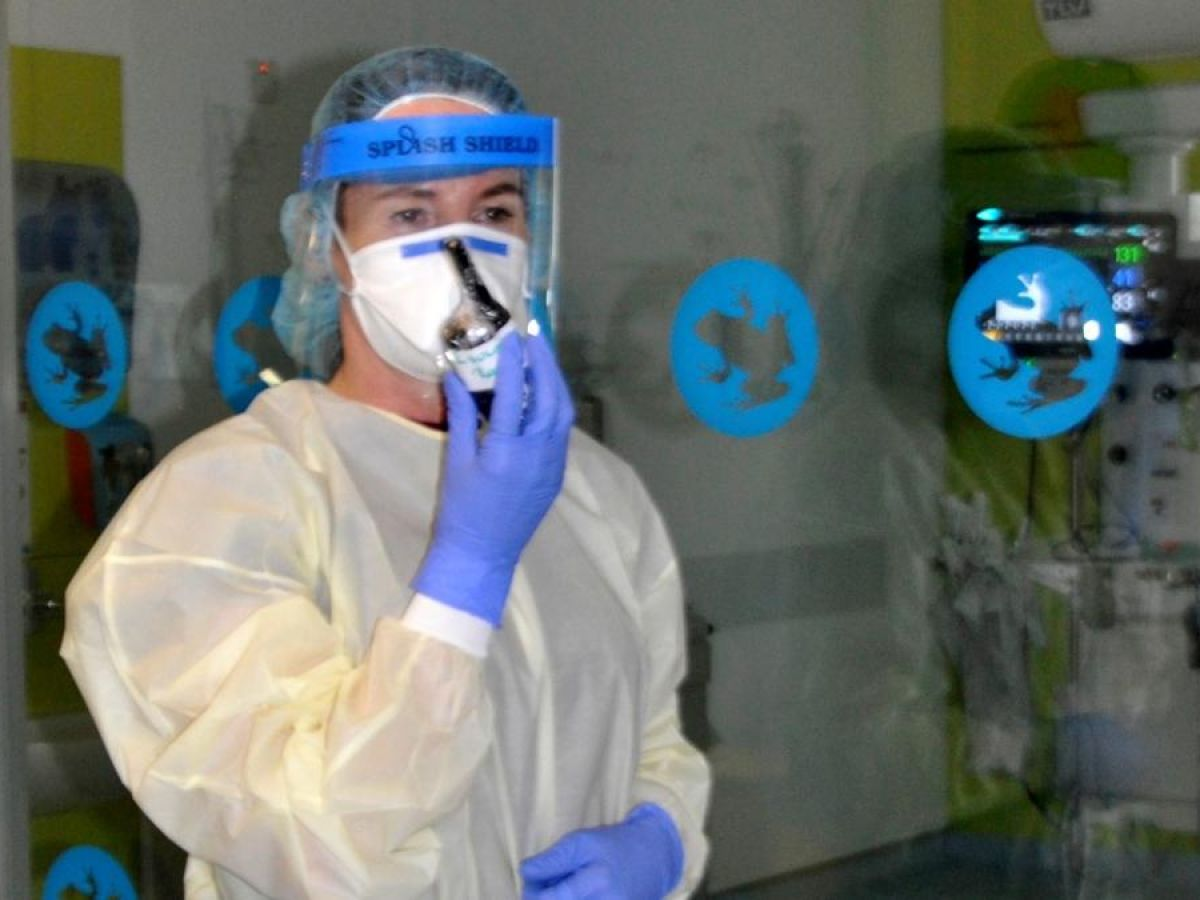Coverall: (123, 375, 677, 900)
Gloves: (408, 335, 568, 630), (507, 801, 692, 900)
with_mask: (353, 180, 540, 388)
